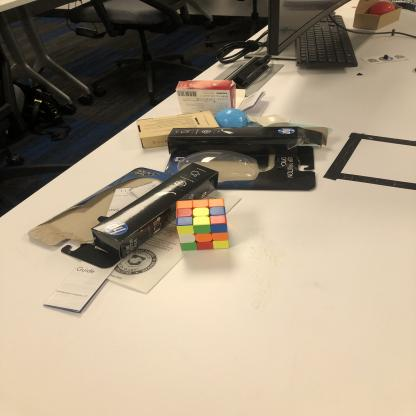UnsolvedCube: (176, 197, 230, 251)
